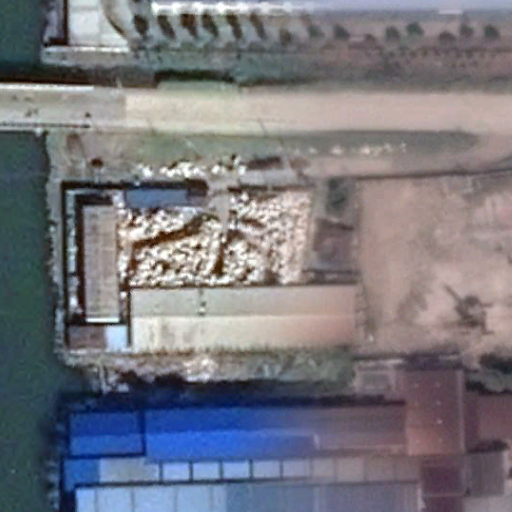msw: (119, 194, 310, 284)
